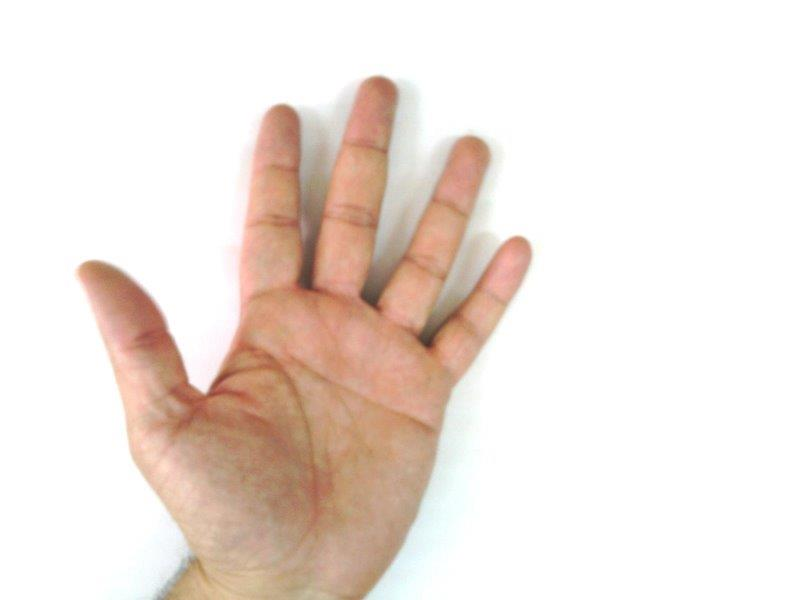hand: (78, 78, 532, 576)
